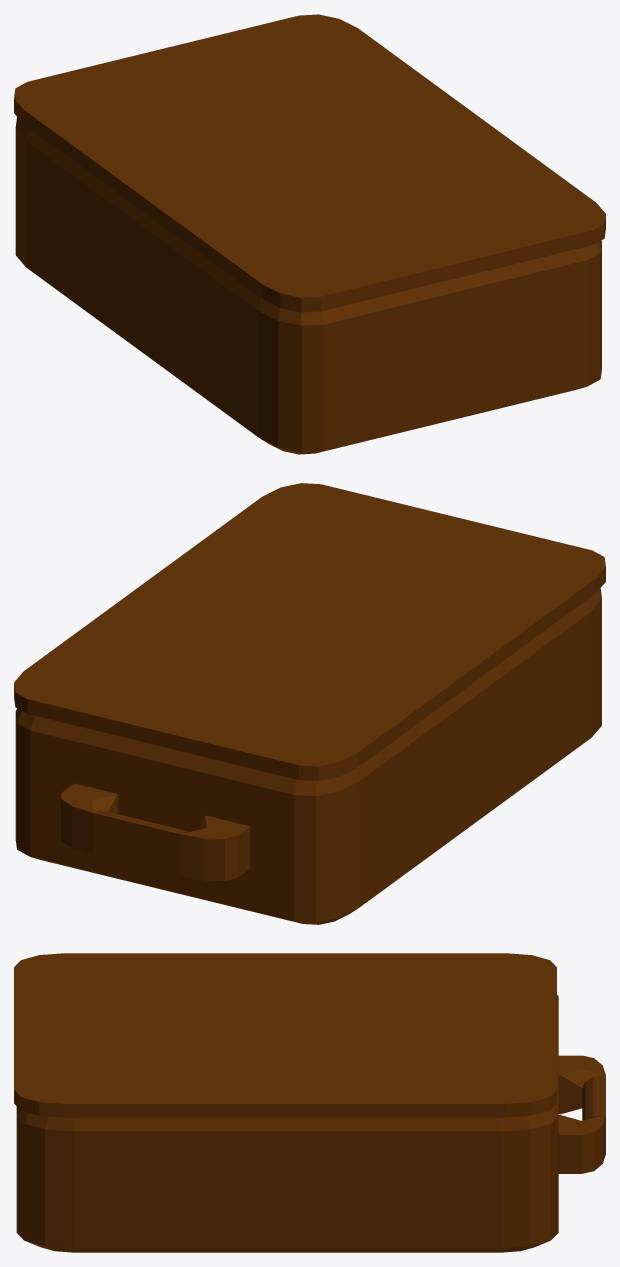
Rendered from ClosedCase.fbx.
The picture shows the model from 3 angles, top to bottom: view 1: azimuth 30°, elevation 25°; view 2: azimuth 150°, elevation 25°; view 3: azimuth 270°, elevation 25°; orthographic projection. The views are drawn at different scales.
Parts seen in each view (by area): view 1: ClosedCase; view 2: ClosedCase; view 3: ClosedCase.
Boxes of the visible parts, bbox=[...] form: ClosedCase: bbox=[14, 14, 605, 454]; ClosedCase: bbox=[14, 483, 605, 924]; ClosedCase: bbox=[14, 953, 605, 1252].
Size of the model in its own units: 60.09 by 28.63 by 99.7.
